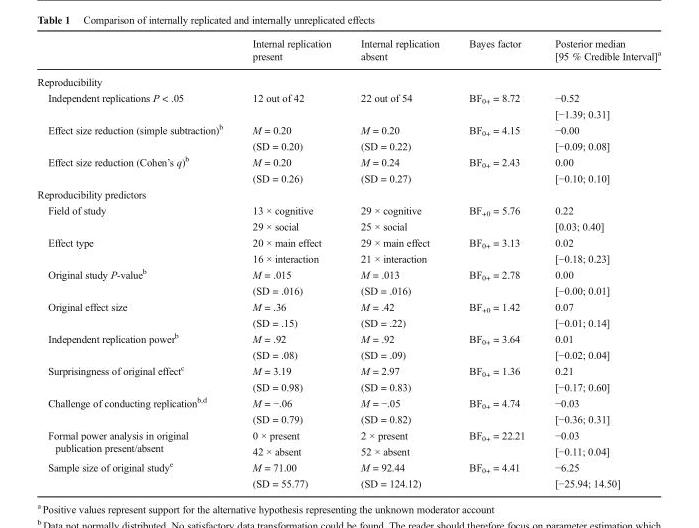table: (36, 37, 660, 489)
table column: (36, 37, 237, 489), (539, 37, 660, 489), (237, 37, 345, 489), (345, 37, 453, 489), (453, 37, 539, 489)
table column header: (36, 37, 660, 68)
table projected row header: (36, 68, 660, 88), (36, 186, 660, 201)
table row: (36, 37, 660, 68), (36, 68, 660, 88), (36, 88, 660, 105), (36, 169, 660, 186), (36, 201, 660, 218), (36, 281, 660, 298), (36, 345, 660, 362), (36, 377, 660, 394), (36, 105, 660, 121), (36, 121, 660, 137), (36, 137, 660, 153), (36, 153, 660, 169), (36, 218, 660, 234), (36, 249, 660, 265), (36, 265, 660, 281), (36, 313, 660, 329), (36, 329, 660, 345), (36, 394, 660, 410), (36, 410, 660, 426), (36, 426, 660, 442), (36, 442, 660, 458), (36, 458, 660, 474), (36, 186, 660, 201), (36, 234, 660, 249), (36, 298, 660, 313), (36, 362, 660, 377), (36, 474, 660, 489)
table spanning cell: (36, 88, 237, 121), (36, 153, 237, 186), (36, 201, 237, 234), (36, 265, 237, 298), (36, 329, 237, 362), (36, 121, 237, 153), (36, 362, 237, 394), (36, 394, 237, 426), (36, 426, 237, 458), (36, 234, 237, 265), (36, 298, 237, 329), (36, 458, 237, 489), (237, 88, 345, 121), (345, 88, 453, 121), (453, 88, 539, 121), (453, 153, 539, 186), (453, 201, 539, 234), (453, 265, 539, 298), (453, 329, 539, 362), (453, 121, 539, 153), (453, 362, 539, 394), (453, 394, 539, 426), (453, 426, 539, 458), (453, 234, 539, 265), (453, 298, 539, 329), (453, 458, 539, 489)
